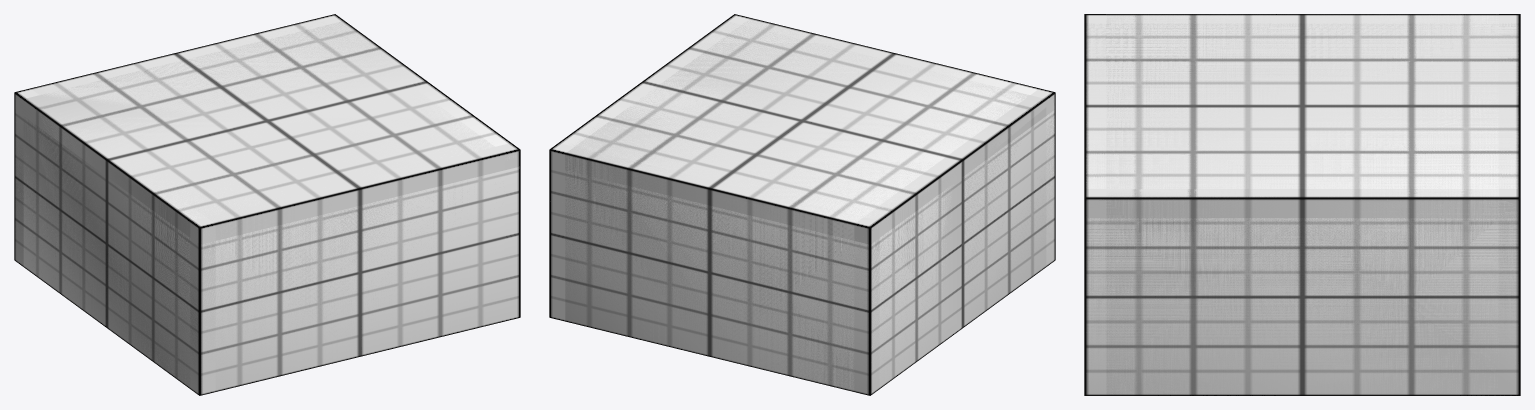
Rendered from cube-bevel.fbx.
The picture shows the model from 3 angles, left to right: view 1: azimuth 30°, elevation 25°; view 2: azimuth 150°, elevation 25°; view 3: azimuth 270°, elevation 25°; orthographic projection. The views are drawn at different scales.
Visible parts, largest first — view 1: 7, 12, 23, 4, 3, 6, 10, 8, 14, 0, 13, 5 (+16 smaller); view 2: 6, 5, 7, 21, 14, 22, 25, 15, 2, 4, 9, 10 (+17 smaller); view 3: 4, 5, 8, 37, 13, 2, 3, 20, 21, 0, 1, 24 (+13 smaller).
Part boxes in pixels (box(x1,y1,x2,y2)): 7: box(107, 121, 360, 391); 12: box(274, 82, 520, 356); 23: box(107, 161, 360, 390); 4: box(271, 86, 504, 355); 3: box(107, 121, 359, 227); 6: box(23, 60, 265, 327); 10: box(14, 54, 266, 324); 8: box(269, 86, 503, 188); 14: box(27, 60, 263, 159); 0: box(268, 85, 519, 188); 13: box(177, 18, 406, 120); 5: box(185, 24, 410, 119); 6: box(709, 121, 952, 391); 5: box(565, 86, 801, 356); 7: box(806, 60, 1046, 327); 21: box(565, 153, 709, 354); 14: box(709, 124, 962, 395); 22: box(709, 167, 957, 389); 25: box(549, 149, 709, 356); 15: box(807, 53, 1055, 327); 2: box(710, 121, 961, 227); 4: box(659, 25, 884, 120); 9: box(559, 82, 797, 325); 10: box(711, 122, 947, 395); 4: box(1106, 106, 1302, 395); 5: box(1302, 106, 1498, 395); 8: box(1084, 106, 1302, 395); 37: box(1302, 198, 1520, 395); 13: box(1302, 106, 1520, 395); 2: box(1302, 14, 1520, 106); 3: box(1084, 14, 1302, 106); 20: box(1106, 198, 1302, 395); 21: box(1302, 198, 1498, 395); 0: box(1084, 106, 1302, 198); 1: box(1302, 106, 1520, 198); 24: box(1084, 198, 1302, 395).
Bounding box in the file's own units: 100 × 50 × 100.
